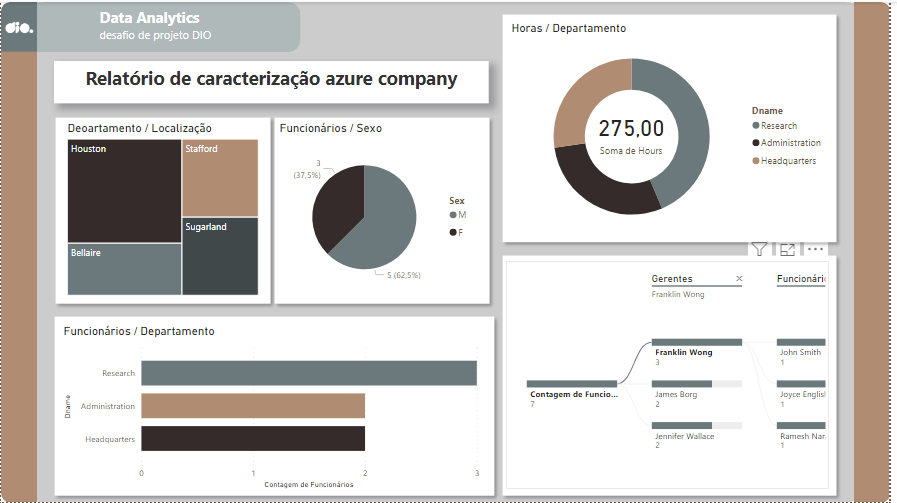

The dashboard page shown, as its layout file describes it:
{"tool":"powerbi","page":{"name":"Página 1","canvas":[1280,720],"ordinal":0},"visuals":[{"type":"shape","box":[0,0,1280,720.6],"z":1000},{"type":"shape","box":[1227.7,0,52.3,721.1],"z":1500},{"type":"shape","box":[1.7,0,430,72.2],"z":2000},{"type":"shape","box":[0,0,52.3,721.1],"z":3000},{"type":"shape","box":[0,0,52,71.8],"z":4000},{"type":"image","box":[1.8,9,50.5,55.9],"z":5000},{"type":"shape","box":[68.5,156.8,328.1,286.6],"z":6000},{"type":"textbox","box":[136.7,3.4,188,64.9],"z":7000},{"type":"textbox","box":[75.7,85,625.6,61.3],"z":8000},{"type":"shape","box":[67.3,444.1,652,276.6],"z":9000},{"type":"shape","box":[712.1,355.2,499.4,364.2],"z":10000},{"type":"decompositionTreeVisual","fields":{"Analyze":["azure_company employee_departament.Mesclado"],"ExplainBy":["Mesclar1.Mesclado","azure_company employee_departament.Mesclado"]},"box":[726.5,373.2,465.1,328.1],"z":11000},{"type":"treemap","title":"Deoartamento / Localização","fields":{"Details":["azure_company departament_loc.Dlocation"],"Values":["azure_company departament_loc.Dname"]},"box":[90.1,171.3,284.8,256],"z":12000},{"type":"shape","box":[712.1,9,499.4,346.1],"z":13000},{"type":"shape","box":[384,156.8,328.1,286.6],"z":14000},{"type":"donutChart","title":" Horas / Departamento","fields":{"Category":["azure_company departament_hours.Dname"],"Y":["azure_company departament_hours.Hours"]},"box":[730.1,27,465.1,311.9],"z":15000},{"type":"card","fields":{"Values":["azure_company works_on.Hours"]},"box":[852.7,146,110,84.7],"z":16000},{"type":"pieChart","title":"Funcionários / Sexo","fields":{"Y":["azure_company employee.Ssn"],"Category":["azure_company employee.Sex"]},"box":[396.6,171.3,297.5,256],"z":17000},{"type":"barChart","title":"Funcionários / Departamento","fields":{"Category":["azure_company employee_departament.Dname"],"Y":["azure_company employee_departament.Funcionários"],"Series":["Mesclar1.Gerentes"]},"box":[84.7,463.3,609.4,241.6],"z":18000}]}

Visuals, with their boxes in screenshot pixels (x1, y1, x2, y2), scaled from the page's 1280x720 canvas onto the 897x503 screenshot:
shape: detection(0, 0, 896, 502)
shape: detection(860, 0, 896, 502)
shape: detection(1, 0, 303, 50)
shape: detection(0, 0, 37, 502)
shape: detection(0, 0, 36, 50)
image: detection(1, 6, 37, 45)
shape: detection(48, 110, 278, 310)
textbox: detection(96, 2, 228, 48)
textbox: detection(53, 59, 491, 102)
shape: detection(47, 310, 504, 502)
shape: detection(499, 248, 849, 502)
decompositionTreeVisual - azure_company employee_departament.Mesclado x Mesclar1.Mesclado: detection(509, 261, 835, 490)
"Deoartamento / Localização" treemap: detection(63, 120, 263, 299)
shape: detection(499, 6, 849, 248)
shape: detection(269, 110, 499, 310)
" Horas / Departamento" donutChart: detection(512, 19, 838, 237)
card - azure_company works_on.Hours: detection(598, 102, 675, 161)
"Funcionários / Sexo" pieChart: detection(278, 120, 486, 299)
"Funcionários / Departamento" barChart: detection(59, 324, 486, 492)
